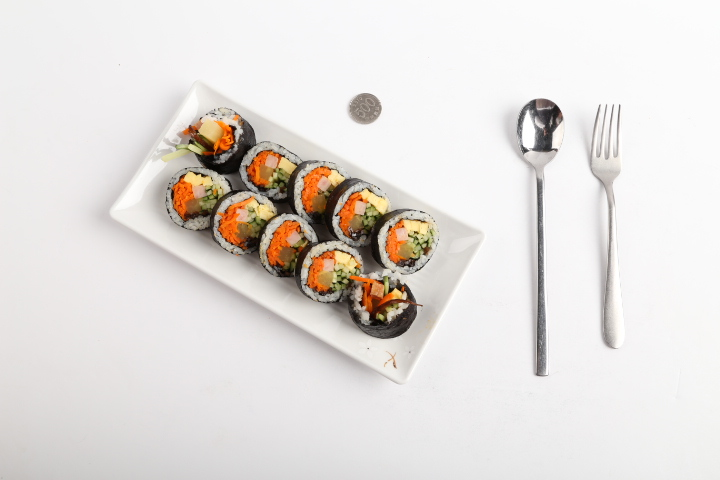dish: (108, 79, 484, 384)
ref_coin: (349, 93, 382, 124)
ref_fork: (591, 103, 622, 190)
ref_spoon: (517, 97, 565, 178)
김밥: (165, 108, 441, 339)
